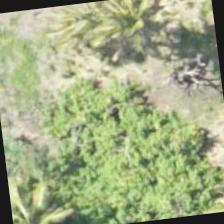Kelapa_Sawit: (8, 174, 81, 223)
